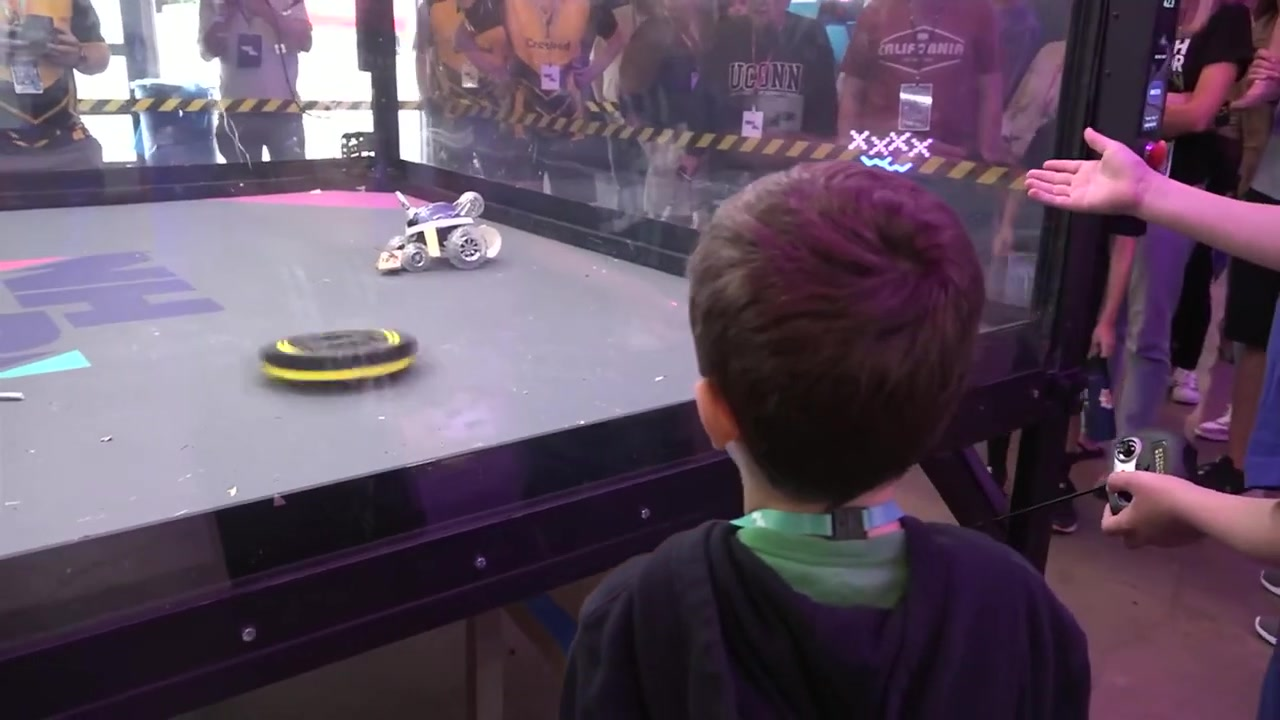combatbot: (372, 193, 503, 276), (256, 327, 422, 390)
